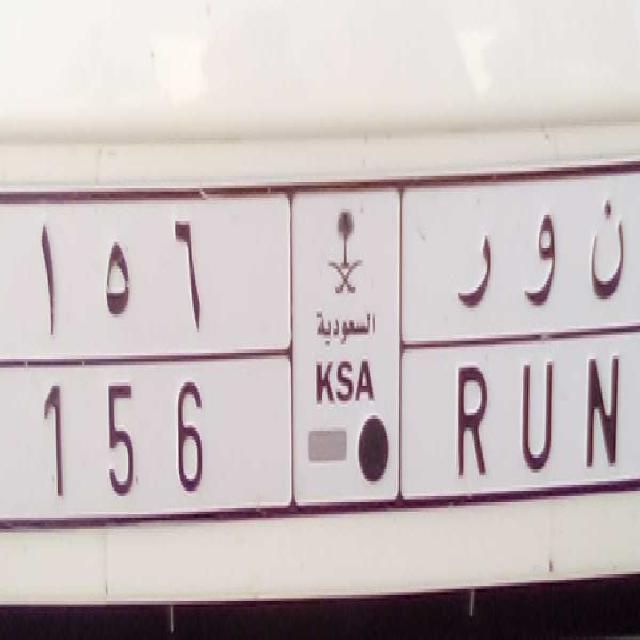license_plate: (17, 334, 640, 509)
